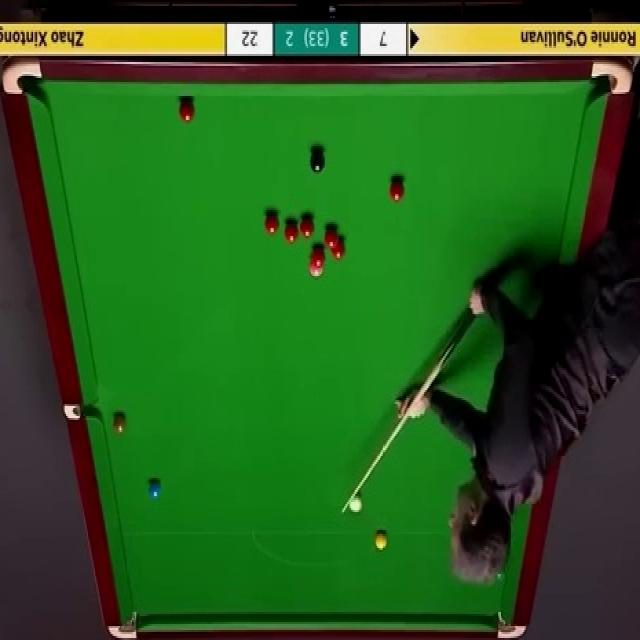pocket: (2, 57, 42, 96), (590, 61, 634, 96), (496, 610, 528, 640), (107, 608, 138, 638), (64, 399, 98, 418)
